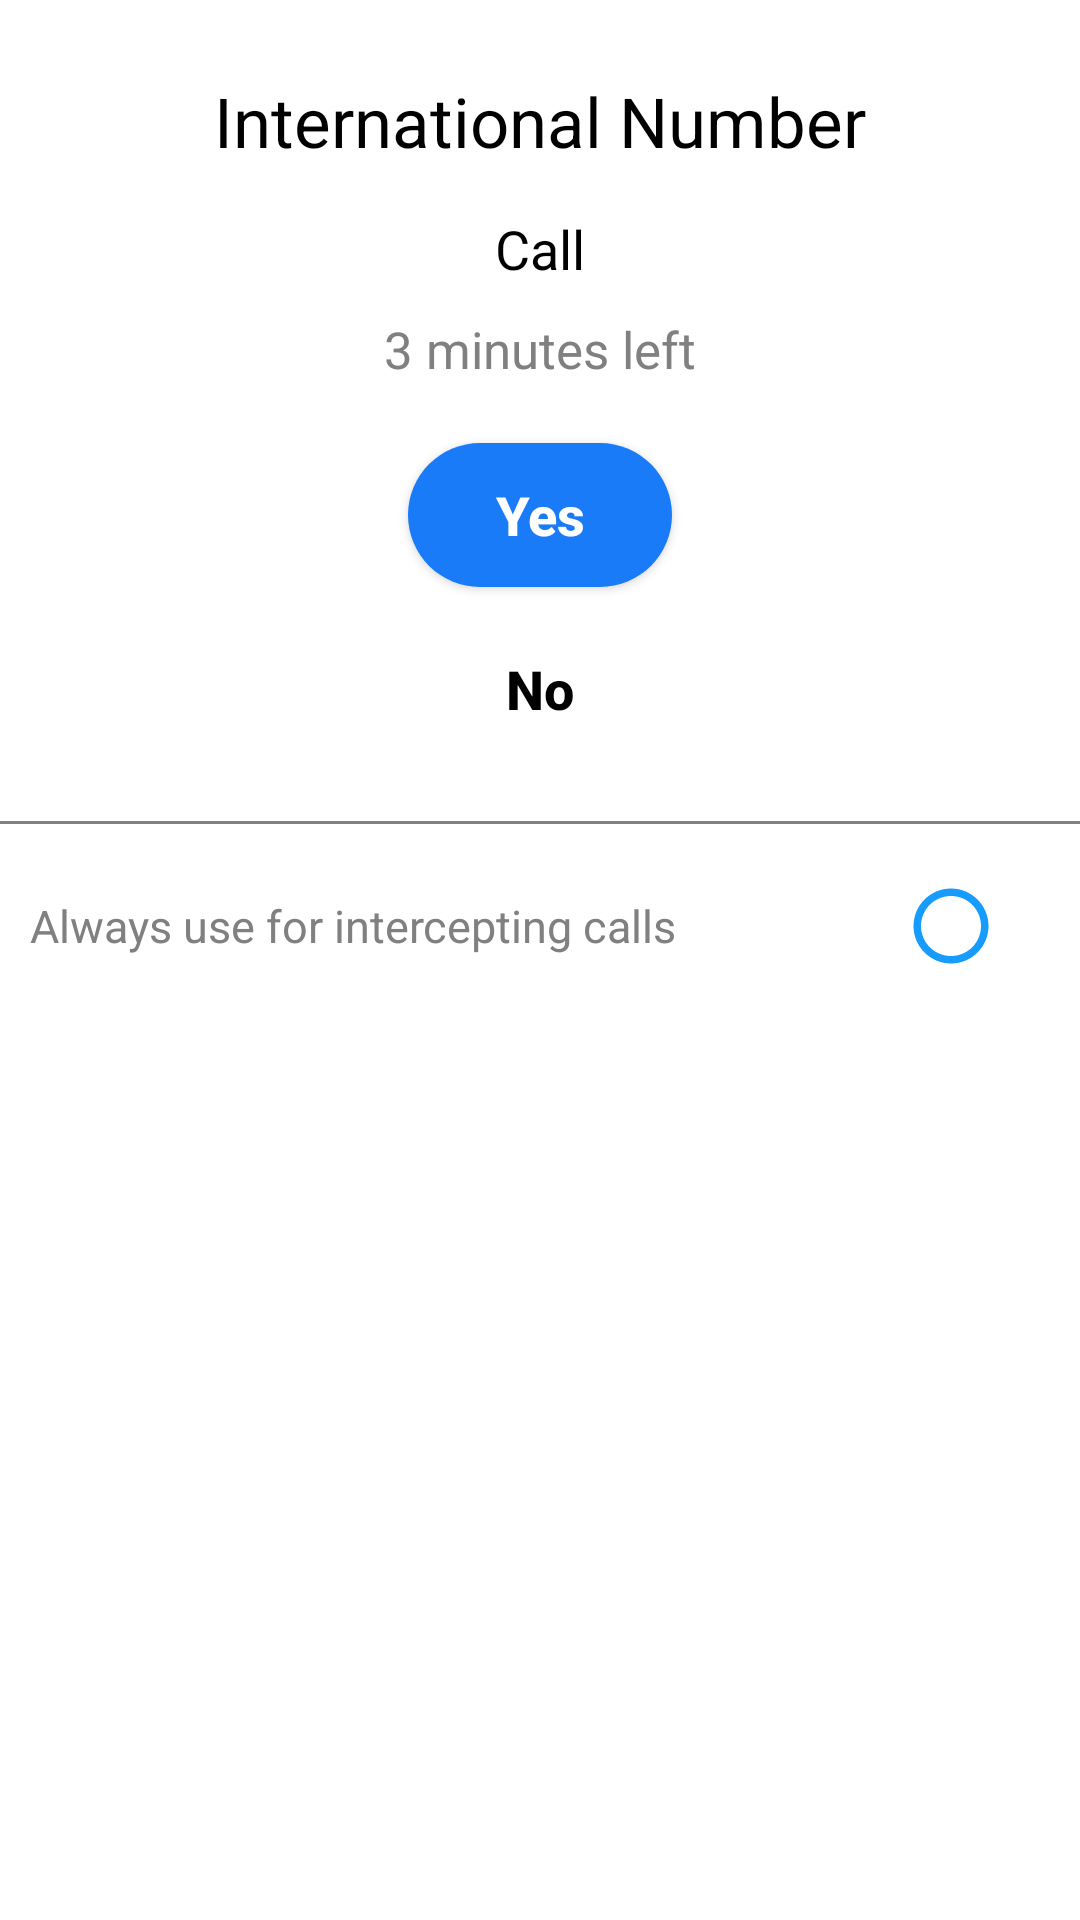

Icons on this 1080w x 1920h Android screen, each with the point to tap as [x,y]:
checkbox: [951,926]
